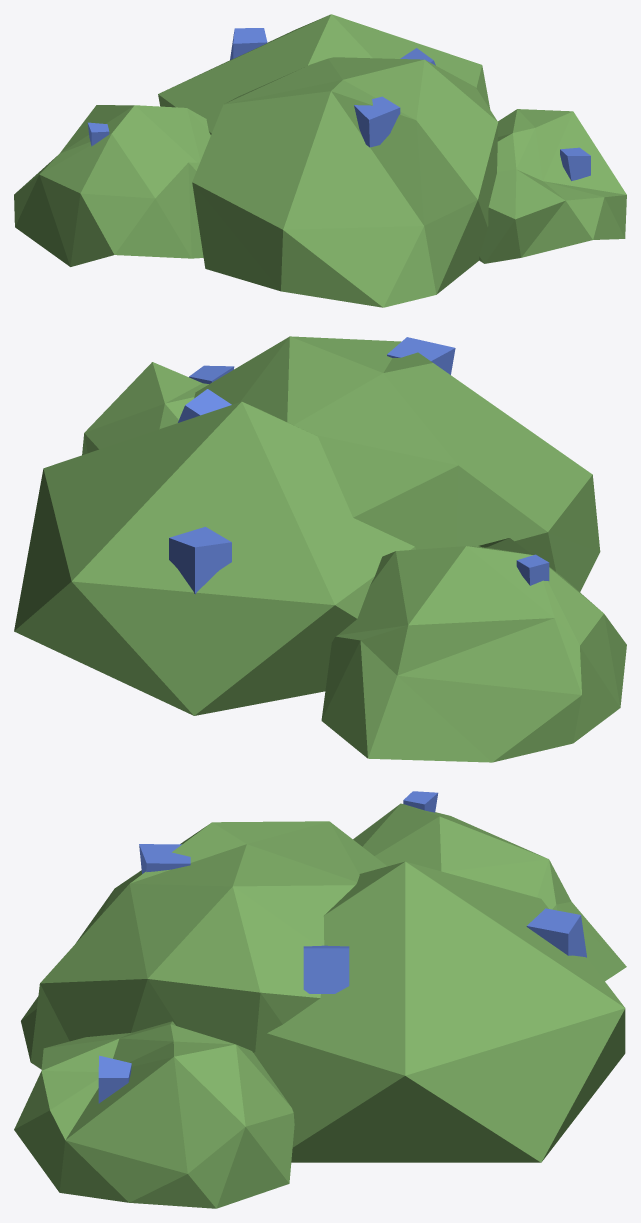
Rendered from bush.gltf.
3 views of the same model, one above another, from view 1: azimuth 30°, elevation 25°; view 2: azimuth 150°, elevation 25°; view 3: azimuth 270°, elevation 25° (orthographic). The views are drawn at different scales.
Visible parts, largest first — view 1: Bush; view 2: Bush; view 3: Bush.
Boxes of the visible parts, bbox=[...] form: Bush: bbox=[14, 14, 626, 307]; Bush: bbox=[14, 336, 626, 762]; Bush: bbox=[14, 791, 626, 1208].
Size of the model in its own units: 3.25 by 1.13 by 2.69.
1 material, 1 textured.
